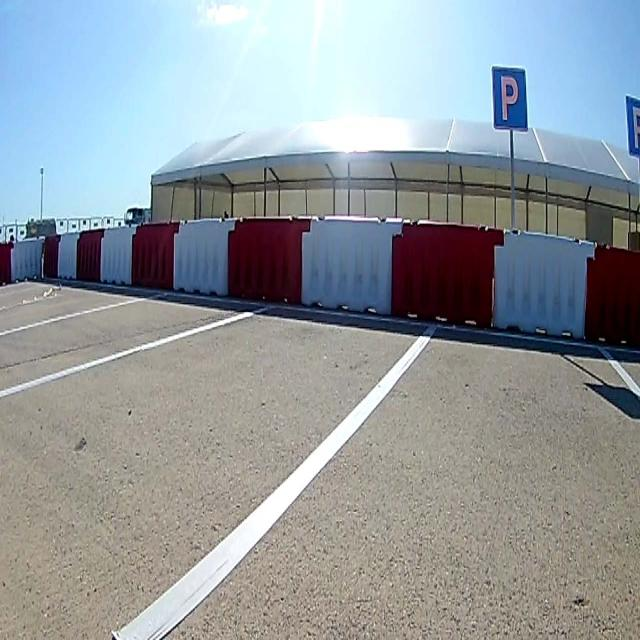park: (492, 66, 528, 132), (624, 95, 640, 157)
